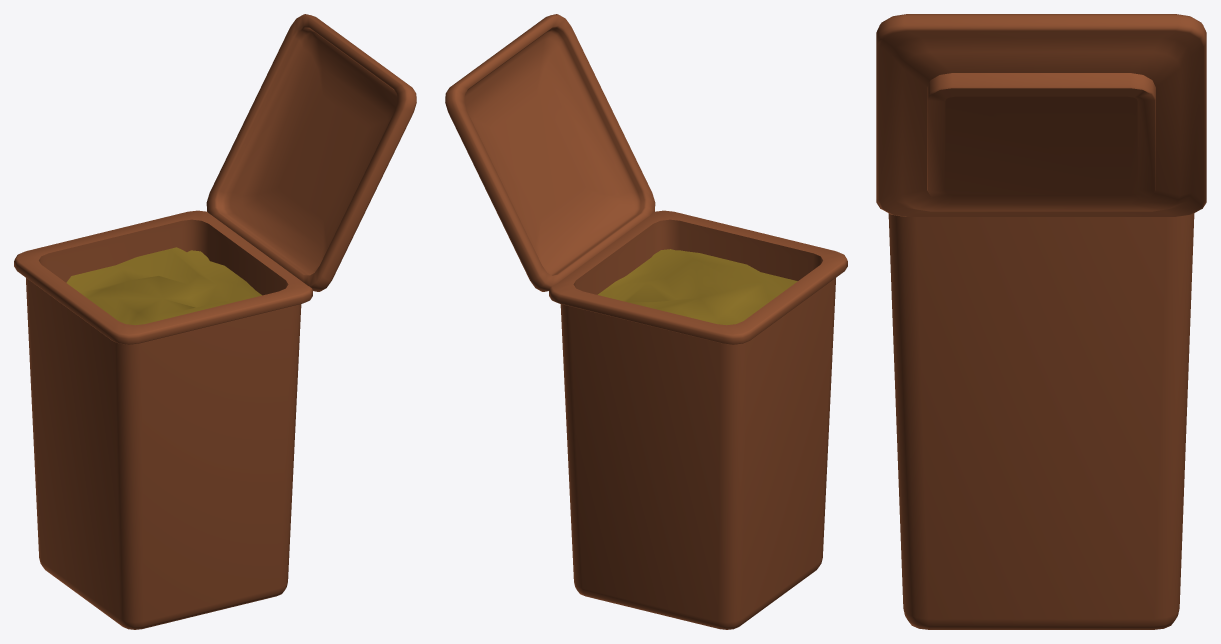
Rendered from Bin_Opened.fbx.
3 views of the same model, side by side, from view 1: azimuth 30°, elevation 25°; view 2: azimuth 150°, elevation 25°; view 3: azimuth 270°, elevation 25° (orthographic). The views are drawn at different scales.
Parts seen in each view (by area): view 1: Bin_Opened, Compost; view 2: Bin_Opened, Compost; view 3: Bin_Opened.
Part boxes in pixels (x1,y1,x2,y2): Bin_Opened: (14, 14, 416, 629); Compost: (66, 247, 261, 325); Bin_Opened: (445, 14, 847, 629); Compost: (597, 249, 797, 325); Bin_Opened: (876, 14, 1206, 629).
Bounding box in the file's own units: 124 × 188 × 80.63.
